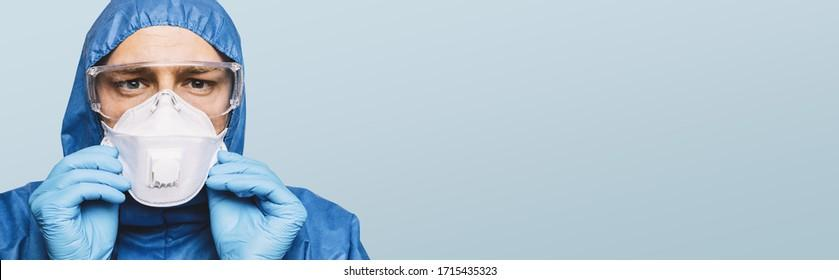gloves: (32, 146, 134, 261), (208, 153, 311, 260)
